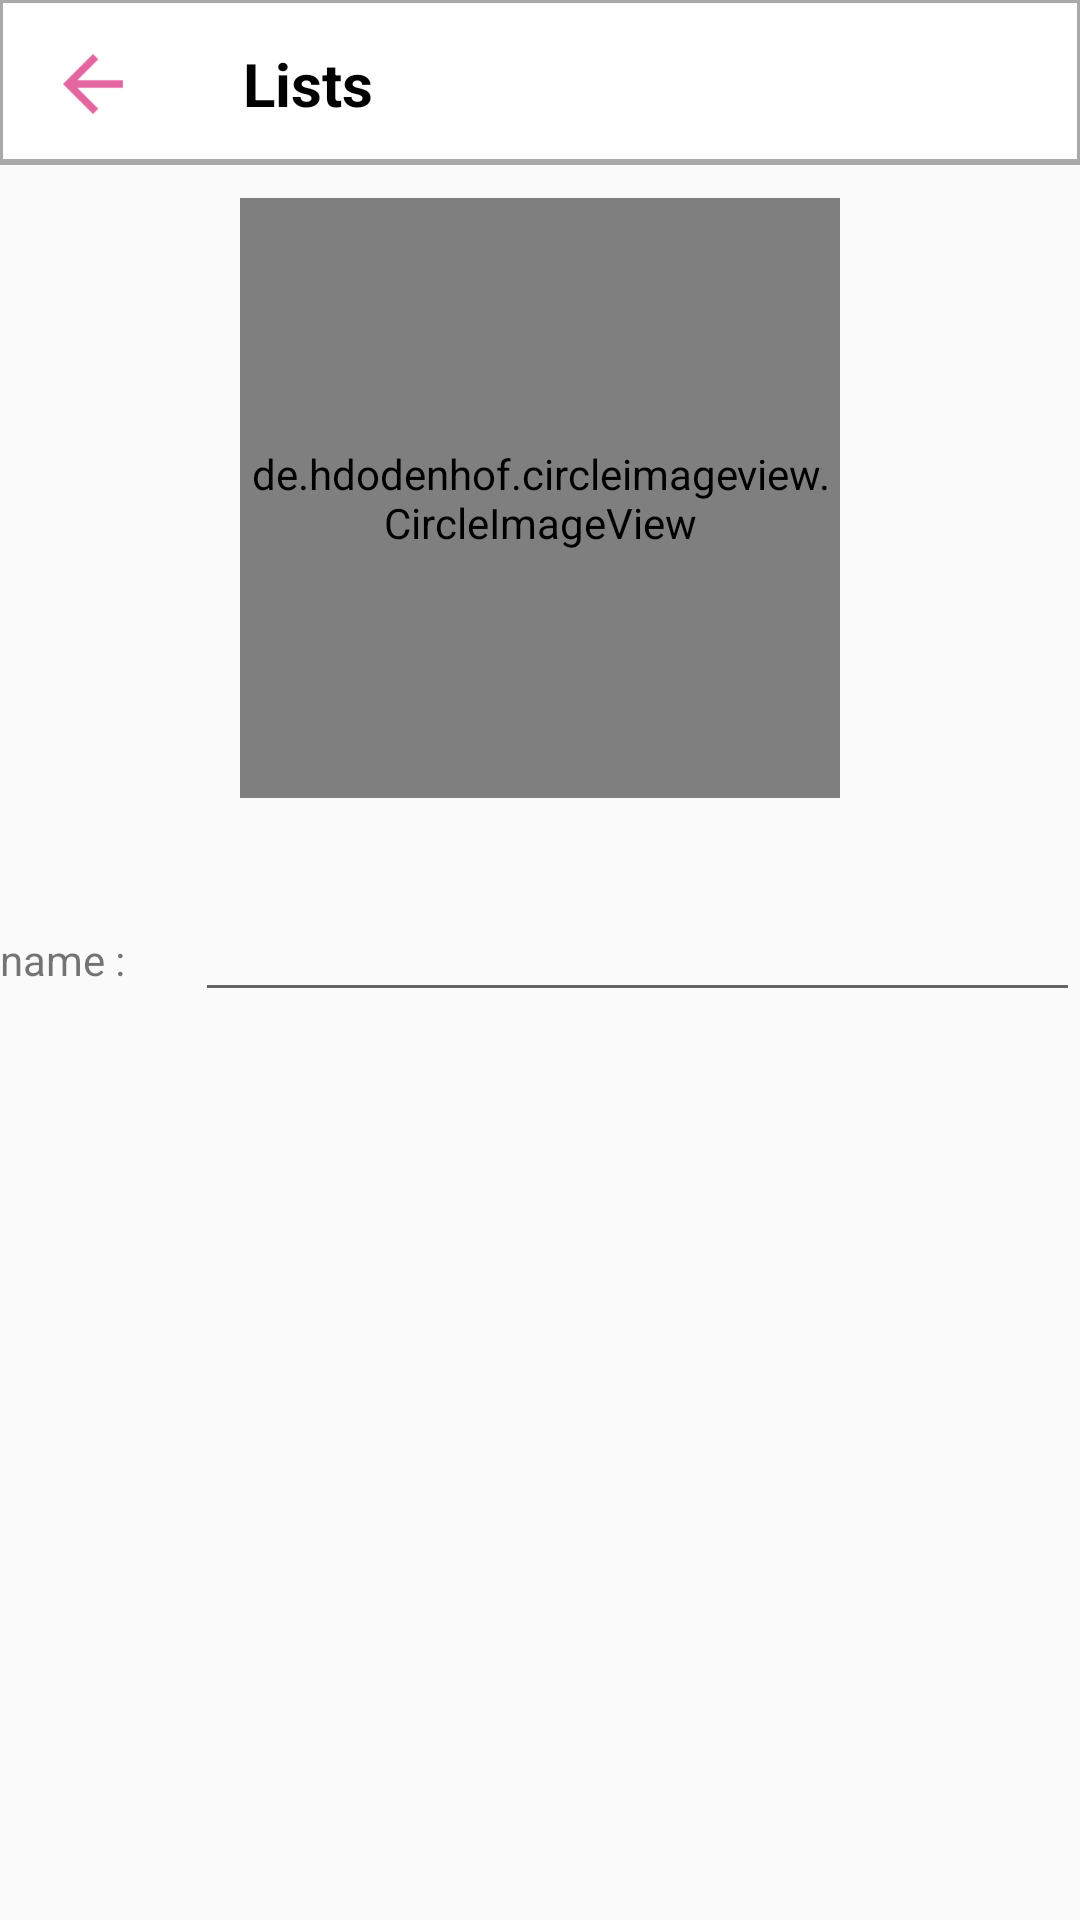

Icons on this 1080px x 1920px Android screen, each with its box as (left=x1, top=y1, right=x2, bottom=y2):
back: (left=63, top=54, right=123, bottom=114)
